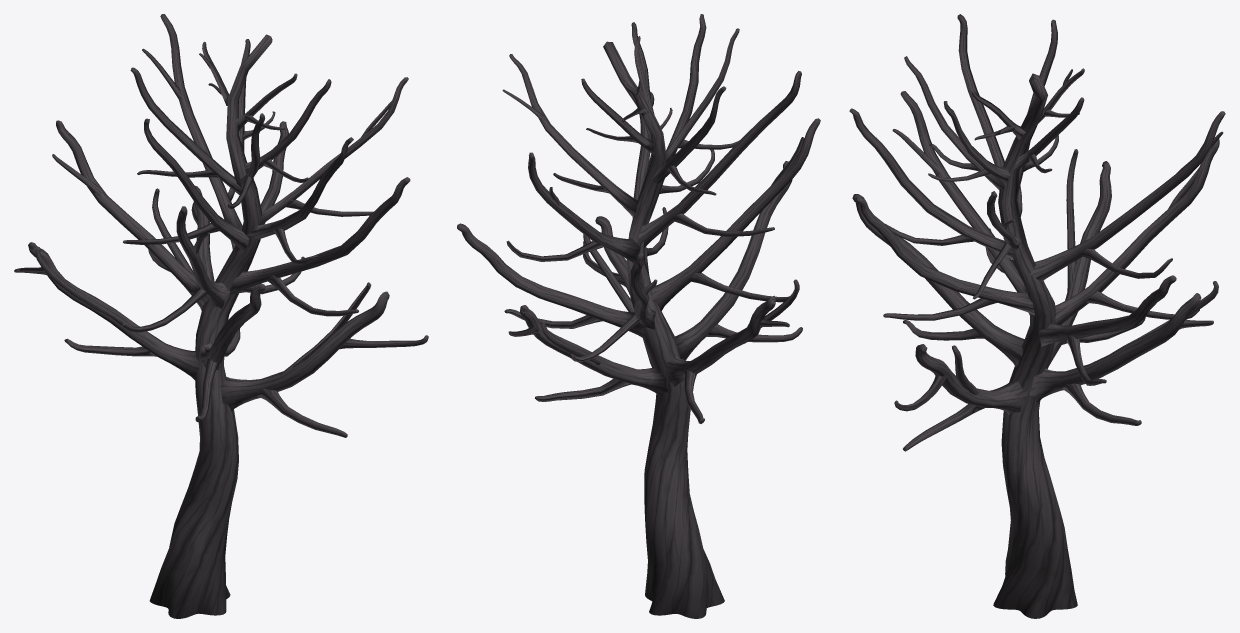
The model's file is dead-tree-4.glb.
3 renders of one model, left to right at view 1: azimuth 30°, elevation 25°; view 2: azimuth 150°, elevation 25°; view 3: azimuth 270°, elevation 25°, orthographic. The views are drawn at different scales.
Parts seen in each view (by area): view 1: DeadTree_1; view 2: DeadTree_1; view 3: DeadTree_1.
Part boxes in pixels (<box>): DeadTree_1: <box>14,14,428,618</box>; DeadTree_1: <box>457,14,820,618</box>; DeadTree_1: <box>849,14,1225,618</box>.
Size of the model in its own units: 6.15 by 9.5 by 5.75.
1 material, 1 textured.
